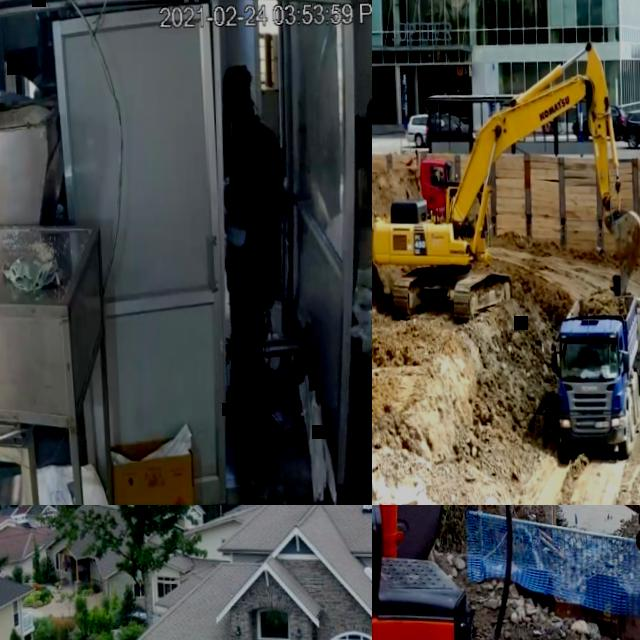helmet: (223, 62, 253, 107)
machinery: (372, 39, 640, 330), (372, 505, 640, 640), (547, 272, 640, 463), (419, 158, 460, 219)
mask: (232, 122, 240, 140)
no_vest: (233, 134, 286, 296), (354, 112, 372, 220)
person: (212, 61, 296, 481), (349, 100, 372, 327), (606, 347, 618, 365)
vehicle: (426, 112, 479, 155), (572, 104, 627, 144), (406, 114, 446, 149), (622, 107, 640, 151)
vest: (612, 351, 616, 364)
